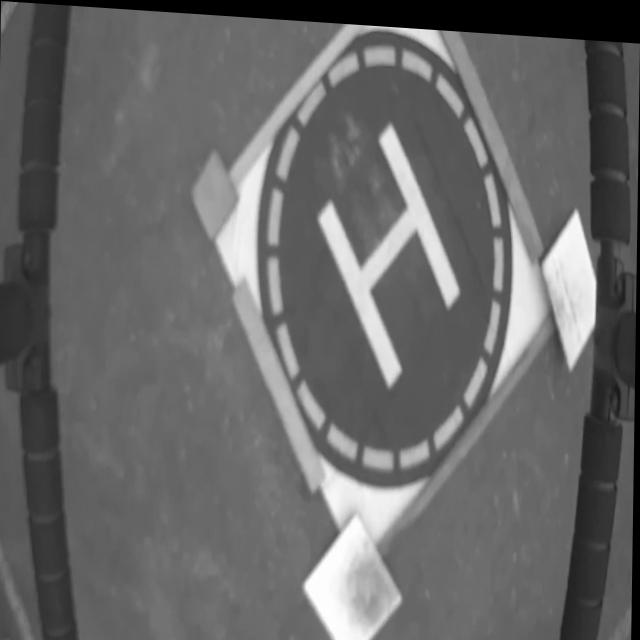Helipad: (316, 113, 459, 382)
